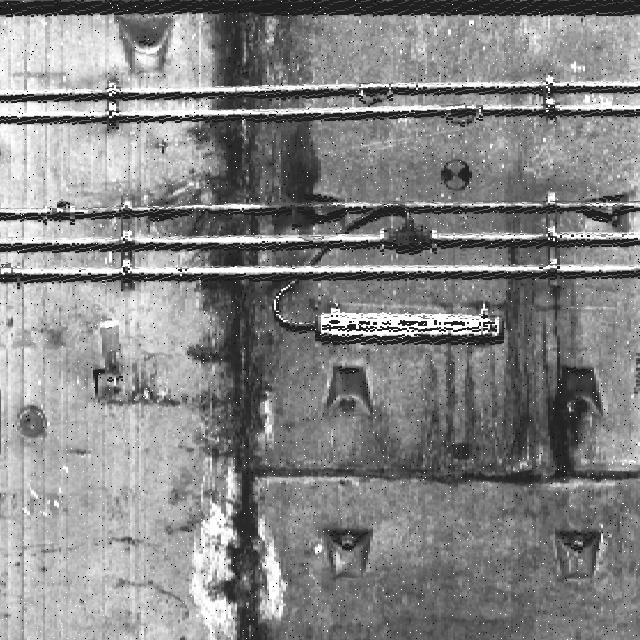leakage: (190, 12, 321, 640), (353, 272, 606, 501)
